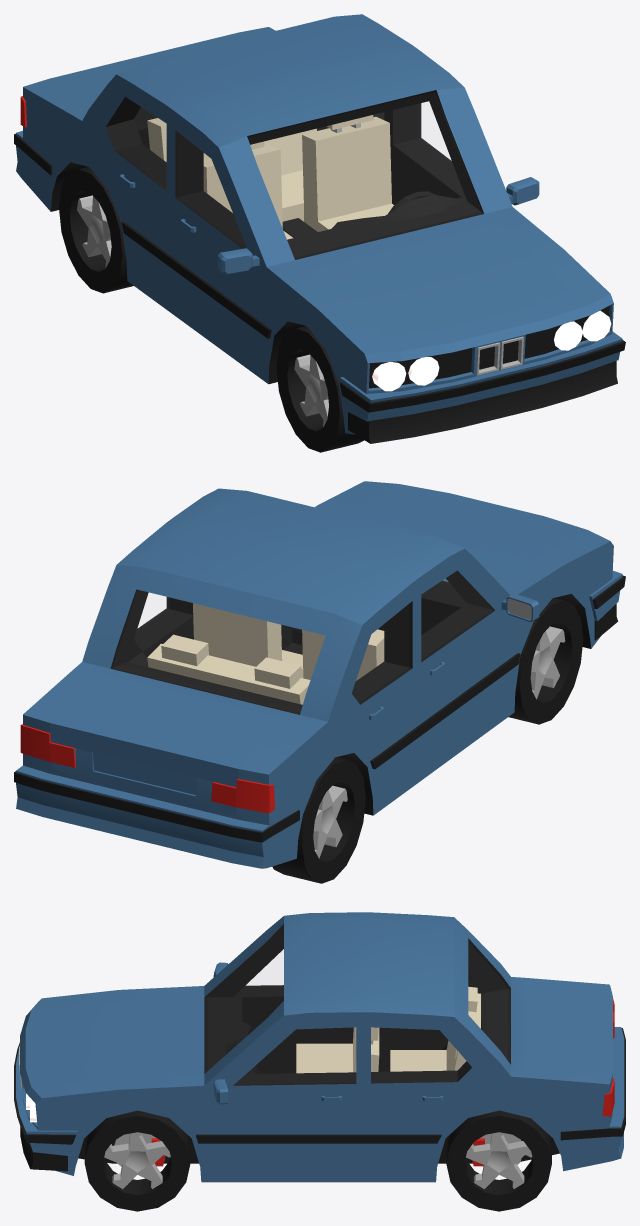
Rendered from bmw_e34_unturned_ii_styled.glb.
3 renders of one model, top to bottom at view 1: azimuth 30°, elevation 25°; view 2: azimuth 150°, elevation 25°; view 3: azimuth 270°, elevation 25°, orthographic. The views are drawn at different scales.
Parts seen in each view (by area): view 1: Body_8, Hood_11, Seat_FL_14, Door_FR_1, Wheel_FR_26, Wheel_RR_28, Door_RR_3, Door_FL_0, Headlights_Model_19, Rearbench_13, Trunk_16, Dashboard_9 (+1 smaller); view 2: Body_8, Trunk_16, Hood_11, Door_FR_1, Wheel_RR_28, Wheel_FR_26, Door_RR_3, Rearbench_13, Seat_FL_14, Taillights_Model_20, Door_RL_2, Seat_FR_15 (+1 smaller); view 3: Body_8, Hood_11, Door_FL_0, Wheel_FL_25, Wheel_RL_27, Door_RL_2, Trunk_16, Door_FR_1, Rearbench_13, Seat_FR_15, Door_RR_3, Dashboard_9 (+1 smaller).
Boxes of the visible parts, x1,y1,x2,y2 form: Body_8: (14, 14, 625, 443); Hood_11: (295, 214, 591, 375); Seat_FL_14: (302, 115, 393, 231); Door_FR_1: (172, 191, 249, 351); Wheel_FR_26: (276, 326, 364, 452); Wheel_RR_28: (59, 166, 133, 293); Door_RR_3: (114, 144, 166, 288); Door_FL_0: (393, 138, 466, 204); Headlights_Model_19: (372, 310, 611, 391); Rearbench_13: (147, 118, 316, 221); Trunk_16: (50, 32, 247, 103); Dashboard_9: (282, 195, 466, 248); Body_8: (14, 481, 625, 868); Trunk_16: (49, 678, 288, 813); Hood_11: (343, 484, 587, 581); Door_FR_1: (421, 603, 498, 759); Wheel_RR_28: (272, 757, 365, 883); Wheel_FR_26: (508, 598, 583, 724); Door_RR_3: (351, 661, 415, 790); Rearbench_13: (147, 634, 310, 704); Seat_FL_14: (193, 603, 303, 678); Taillights_Model_20: (20, 724, 275, 813); Door_RL_2: (134, 608, 193, 658); Seat_FR_15: (302, 629, 384, 680); Body_8: (14, 912, 625, 1182); Hood_11: (20, 997, 204, 1092); Door_FL_0: (233, 1072, 356, 1167); Wheel_FL_25: (84, 1110, 190, 1211); Wheel_RL_27: (446, 1110, 551, 1211); Door_RL_2: (371, 1070, 457, 1164); Trunk_16: (528, 989, 614, 1080); Door_FR_1: (233, 985, 353, 1073); Rearbench_13: (390, 986, 480, 1071); Seat_FR_15: (296, 1027, 356, 1073); Door_RR_3: (378, 1027, 448, 1071); Dashboard_9: (225, 997, 260, 1073).
Bounding box in the file's own units: 3.19 × 2.35 × 6.41.
